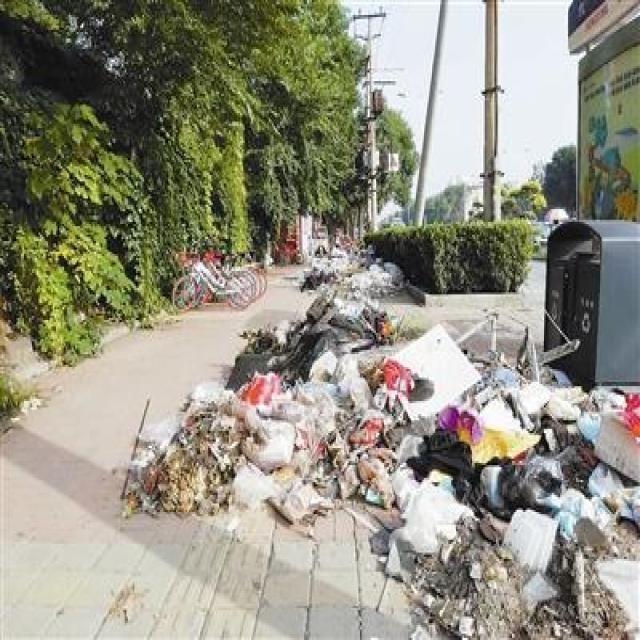garbage: (118, 386, 640, 529), (228, 299, 374, 384)
